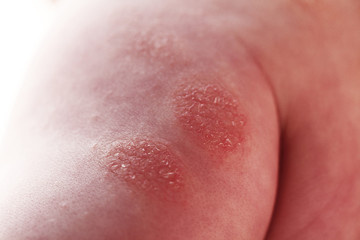Diseased: (101, 69, 258, 198)
